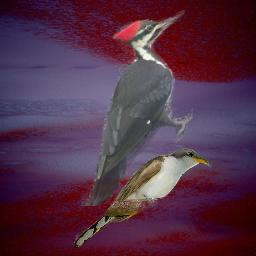Cuckoo: (71, 147, 213, 249)
Woodpecker: (81, 10, 193, 206)
